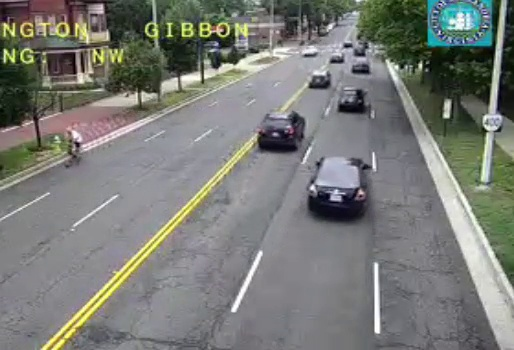car: (308, 156, 368, 211), (258, 113, 304, 145), (339, 87, 364, 111), (309, 71, 332, 89)
